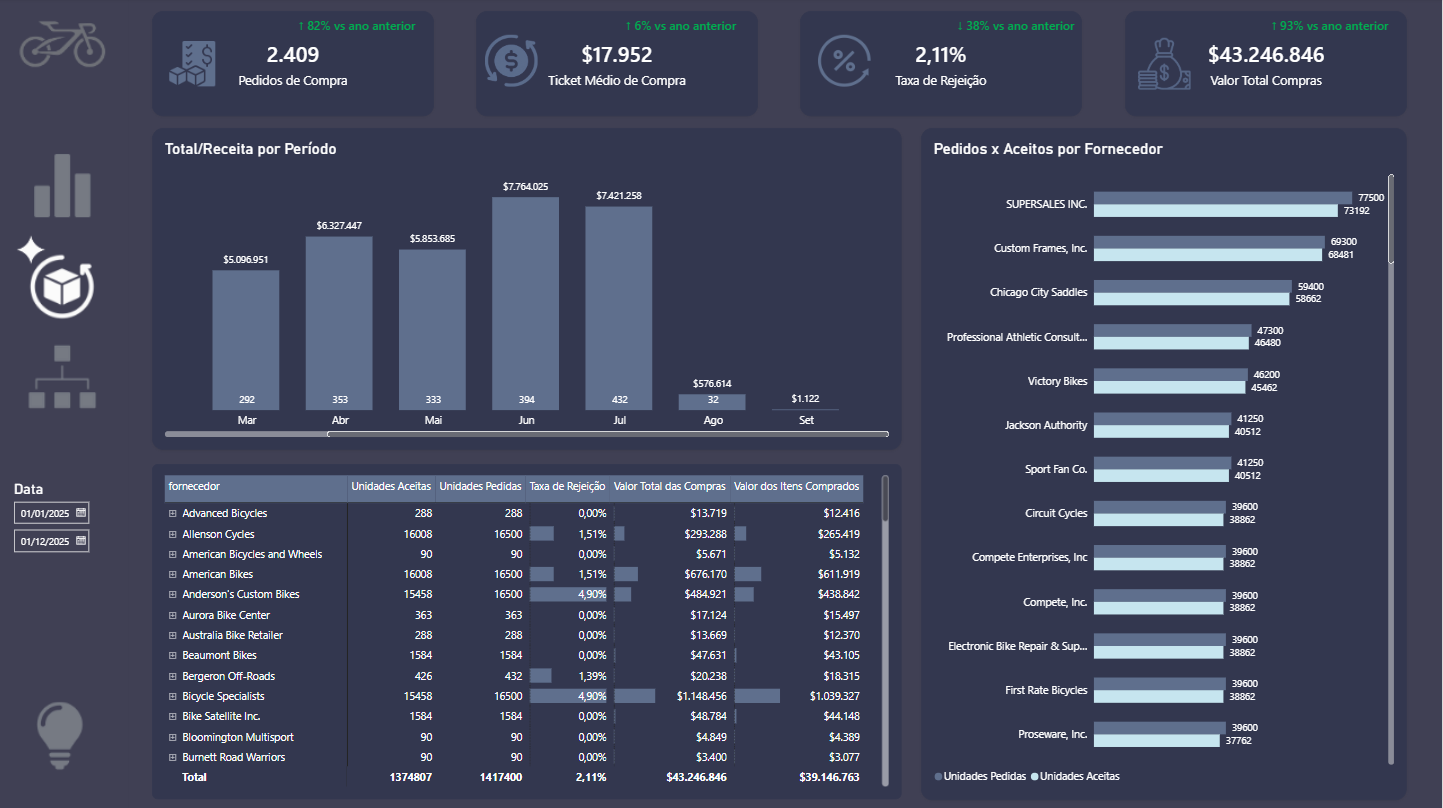

Layout of this report page (visuals, bound fields, positions):
{"tool":"powerbi","page":{"name":"Compras - Dark Mode","canvas":[1920,1080],"ordinal":3},"visuals":[{"type":"card","fields":{"Values":["Medidas.Pedidos de Compra"]},"box":[204.4,16.7,375,140.4],"z":1000},{"type":"card","fields":{"Values":["Medidas.Ticket Médio de Compra"]},"box":[635.8,16.7,375,140.4],"z":2000},{"type":"card","fields":{"Values":["Medidas.Taxa de Rejeição"]},"box":[1067.3,16.7,375,140.4],"z":3000},{"type":"card","fields":{"Values":["Medidas.Valor Total das Compras"]},"box":[1498.7,16.7,375.4,140.4],"z":4000},{"type":"clusteredBarChart","title":"Pedidos x Aceitos por Fornecedor","fields":{"Y":["Medidas.Unidades Pedidas","Medidas.Unidades Aceitas"],"Category":["fCompras.nome_fornecedor"]},"box":[1227.6,172.4,646.5,894],"z":5000},{"type":"pivotTable","fields":{"Rows":["fCompras.nome_fornecedor","fCompras.nome_produto"],"Values":["Medidas.Unidades Aceitas","Medidas.Unidades Pedidas","Medidas.Taxa de Rejeição","Medidas.Valor Total das Compras","Medidas.Valor dos Itens Comprados"]},"box":[204.4,620.1,996.8,446.3],"z":6000},{"type":"lineStackedColumnComboChart","title":"Total/Receita por Período","fields":{"Category":["dCalendário.Mês Abrev"],"Y2":["Medidas.Pedidos de Compra"],"Y":["Medidas.Valor Total das Compras"]},"box":[204.4,172.4,996.8,428.2],"z":7000},{"type":"slicer","fields":{"Values":["dCalendário.Data"]},"box":[13.9,640.9,148.8,190.5],"z":8000},{"type":"card","fields":{"Values":["Medidas.Variação Rejeição Texto"]},"box":[1251.3,4.2,204.4,72.3],"z":9000},{"type":"card","fields":{"Values":["Medidas.Variação TKM Texto"]},"box":[806.4,4.2,204.4,72.3],"z":10000},{"type":"card","fields":{"Values":["Medidas.Variação Pedido Texto"]},"box":[375.4,4.2,204.4,72.3],"z":11000},{"type":"card","fields":{"Values":["Medidas.Variação Valor Compras"]},"box":[1669.7,4.2,204.4,72.3],"z":12000},{"type":"image","box":[1090,36.1,69.5,94.5],"z":13000},{"type":"image","box":[647.9,36.1,69.5,94.5],"z":14000},{"type":"image","box":[1516.8,40.3,69.5,94.5],"z":15000},{"type":"image","box":[223.8,40.3,69.5,94.5],"z":16000}]}

Visuals, with their boxes on the page's 1920x1080 design canvas (x1, y1, x2, y2). These are canvas units, not pixel positions in the 1443x808 screenshot, which may show the page scaled, cropped or inside an application window:
card - Medidas.Pedidos de Compra: <region>204, 17, 579, 157</region>
card - Medidas.Ticket Médio de Compra: <region>636, 17, 1011, 157</region>
card - Medidas.Taxa de Rejeição: <region>1067, 17, 1442, 157</region>
card - Medidas.Valor Total das Compras: <region>1499, 17, 1874, 157</region>
"Pedidos x Aceitos por Fornecedor" clusteredBarChart: <region>1228, 172, 1874, 1066</region>
pivotTable - fCompras.nome_fornecedor x fCompras.nome_produto: <region>204, 620, 1201, 1066</region>
"Total/Receita por Período" lineStackedColumnComboChart: <region>204, 172, 1201, 601</region>
slicer - dCalendário.Data: <region>14, 641, 163, 831</region>
card - Medidas.Variação Rejeição Texto: <region>1251, 4, 1456, 76</region>
card - Medidas.Variação TKM Texto: <region>806, 4, 1011, 76</region>
card - Medidas.Variação Pedido Texto: <region>375, 4, 580, 76</region>
card - Medidas.Variação Valor Compras: <region>1670, 4, 1874, 76</region>
image: <region>1090, 36, 1160, 131</region>
image: <region>648, 36, 717, 131</region>
image: <region>1517, 40, 1586, 135</region>
image: <region>224, 40, 293, 135</region>
